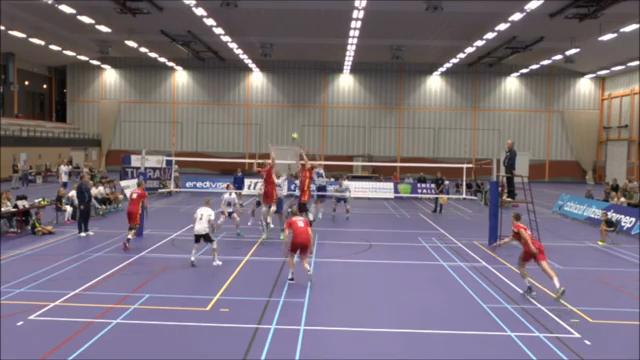alzata: (289, 149, 317, 222)
